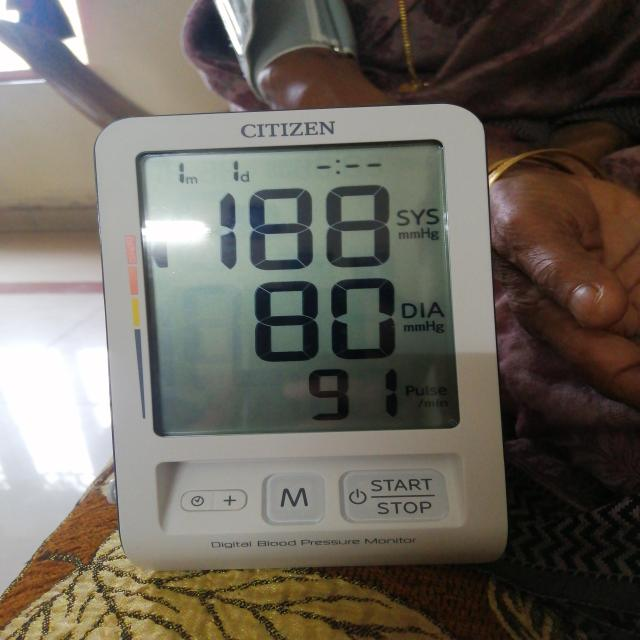display: (131, 134, 465, 440)
frame: (209, 182, 396, 274), (249, 277, 402, 364), (304, 365, 407, 425)
gauge: (91, 99, 515, 576)
